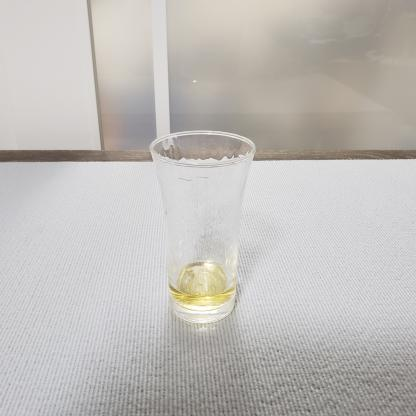glass: (141, 122, 281, 333)
